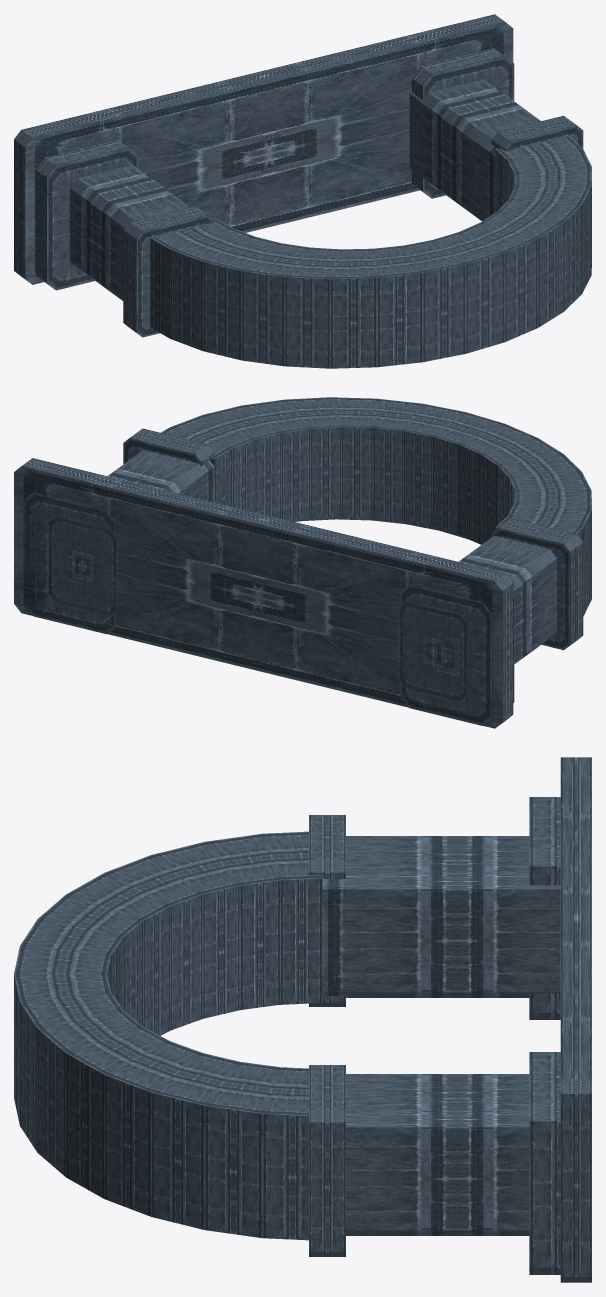
Rendered from rv_temple_arch.obj.
The picture shows the model from 3 angles, top to bottom: view 1: azimuth 30°, elevation 25°; view 2: azimuth 150°, elevation 25°; view 3: azimuth 270°, elevation 25°; orthographic projection. The views are drawn at different scales.
Visible parts, largest first — view 1: rv_temple_arch; view 2: rv_temple_arch; view 3: rv_temple_arch.
Boxes of the visible parts, <box> form: rv_temple_arch: <box>14,14,591,368</box>; rv_temple_arch: <box>14,397,591,728</box>; rv_temple_arch: <box>14,757,591,1282</box>.
Size of the model in its own units: 8 by 2.31 by 5.9.
Materials: 1 (1 with a texture image).
